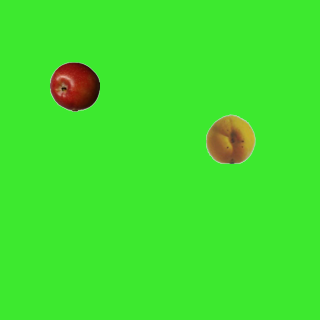Apple Braeburn: (49, 61, 99, 111)
Peach 2: (205, 113, 255, 163)
